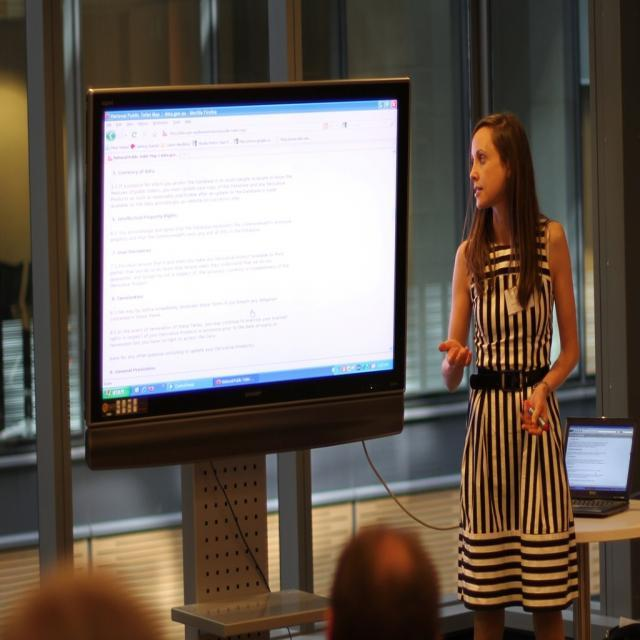others: (74, 68, 442, 481)
